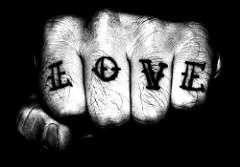fist: (40, 15, 203, 136)
